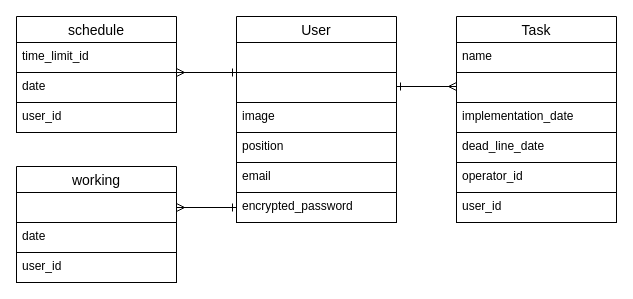
The diagram is 633 pixels wide and 299 high, and some of its shapes have lost their labels. Each missing label, with the centre of its shape:
"first_name" goes at point 316,87.
"last_name" goes at point 316,57.
"time_required" goes at point 536,87.
"working_hour_id" goes at point 96,207.
